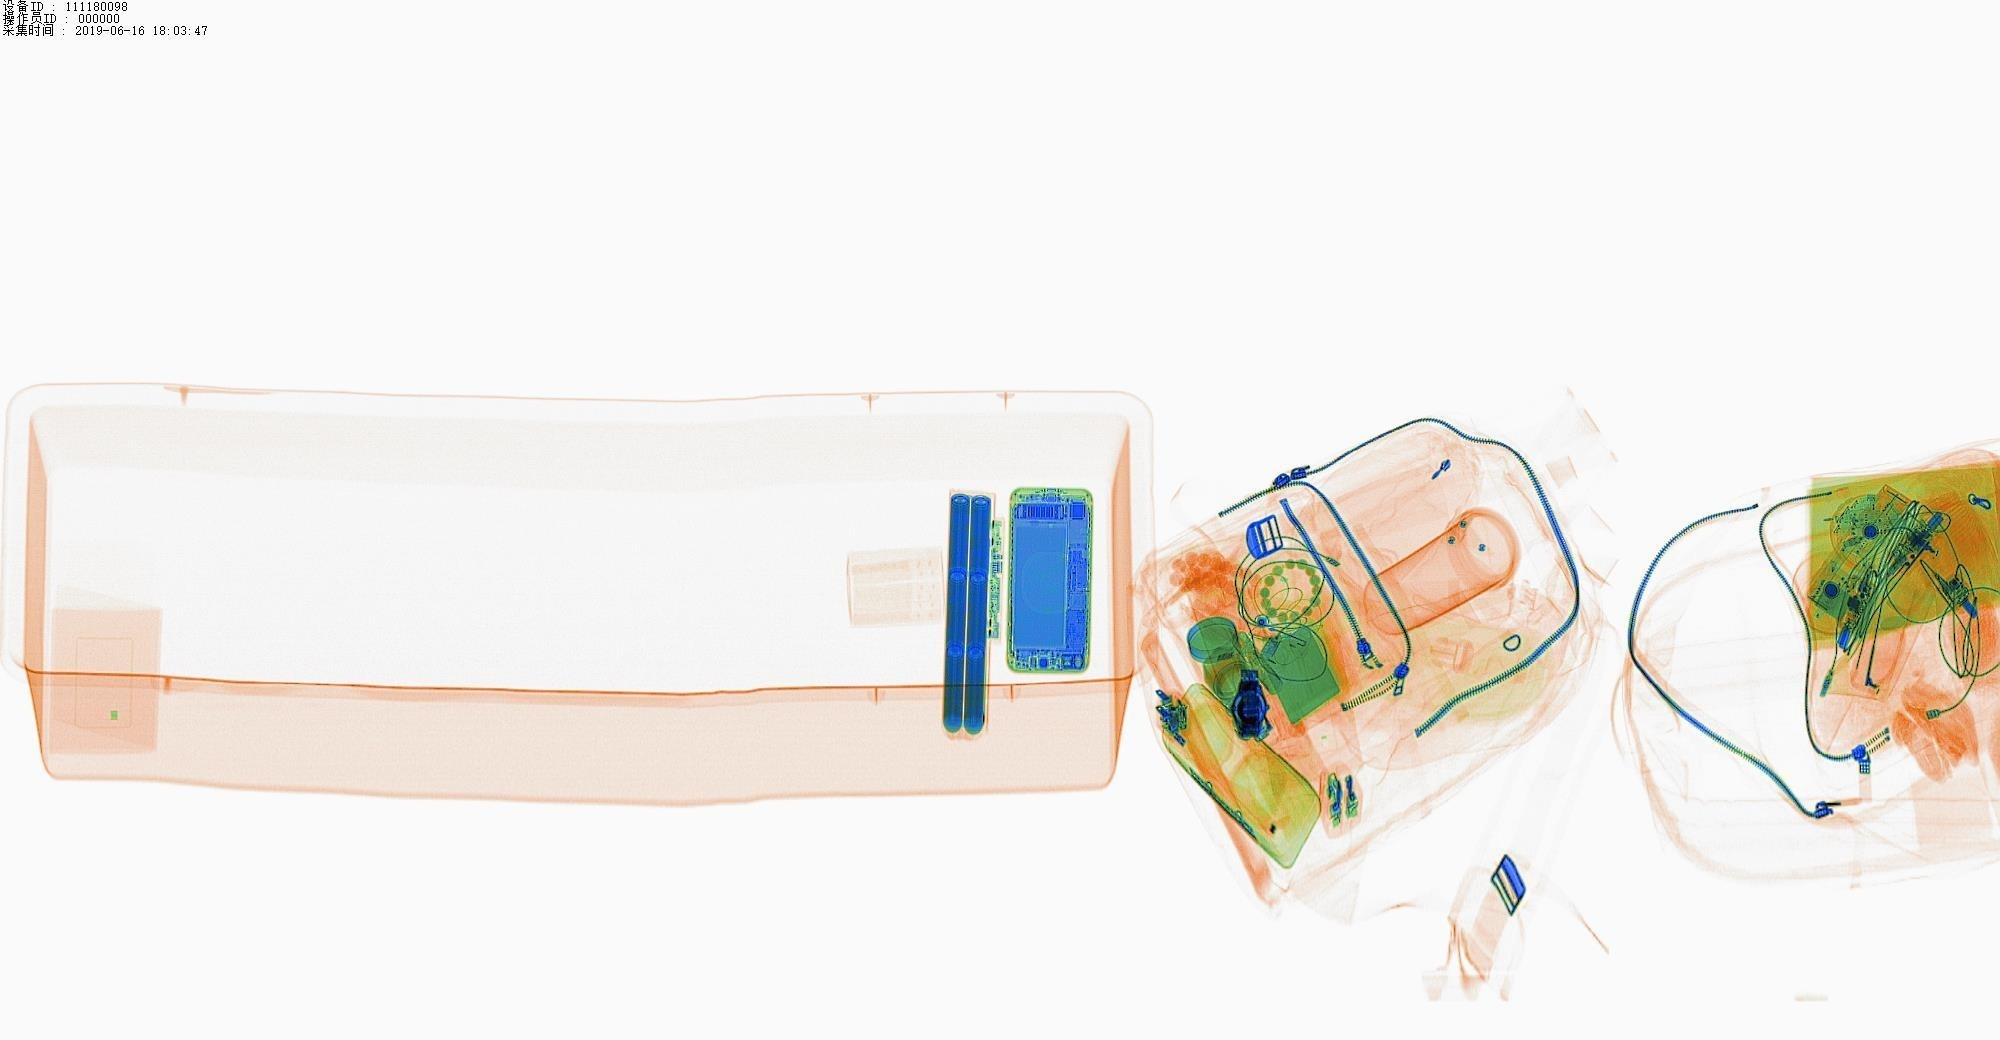NonmetallicFire: (1235, 660, 1284, 752)
